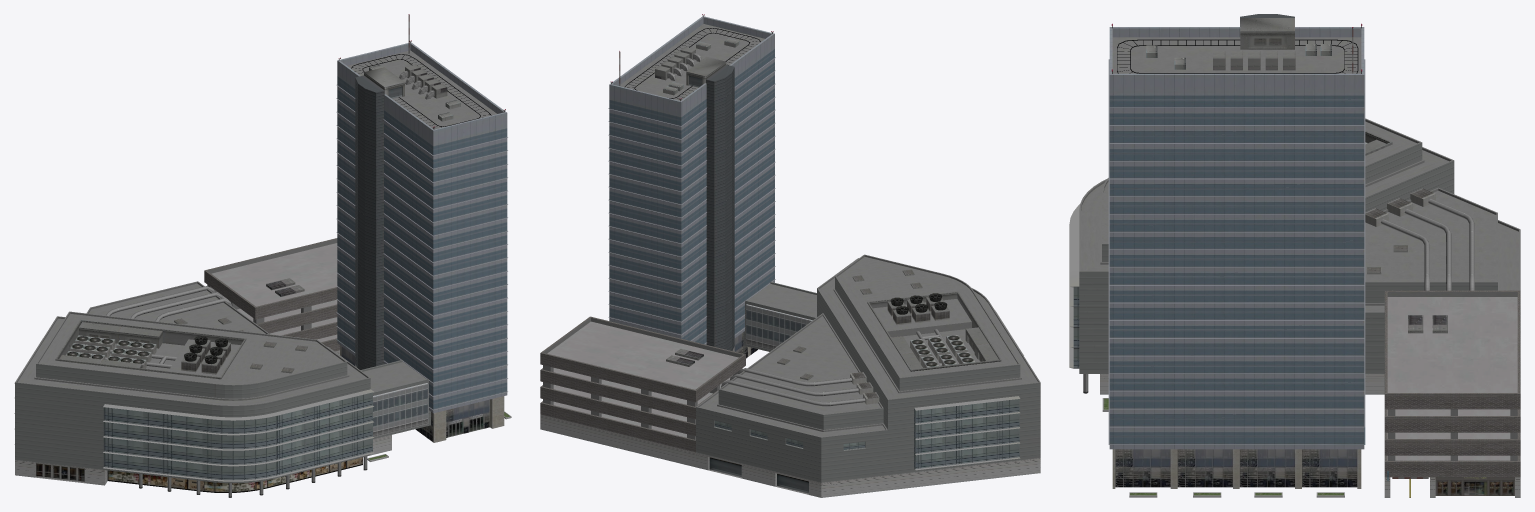
Rendered from office-l7.glb.
The picture shows the model from 3 angles, left to right: view 1: azimuth 30°, elevation 25°; view 2: azimuth 150°, elevation 25°; view 3: azimuth 270°, elevation 25°; orthographic projection. The views are drawn at different scales.
Parts seen in each view (by area): view 1: 45building_b_ind_AITW2W1_t4_l1_0; view 2: 45building_b_ind_AITW2W1_t4_l1_0; view 3: 45building_b_ind_AITW2W1_t4_l1_0.
Boxes of the visible parts, x1=… form: 45building_b_ind_AITW2W1_t4_l1_0: x1=14, y1=14, x2=511, y2=497; 45building_b_ind_AITW2W1_t4_l1_0: x1=540, y1=14, x2=1040, y2=497; 45building_b_ind_AITW2W1_t4_l1_0: x1=1069, y1=14, x2=1520, y2=497.
Bounding box in the file's own units: 94.21 × 71.63 × 63.8.
1 material, 1 textured.
